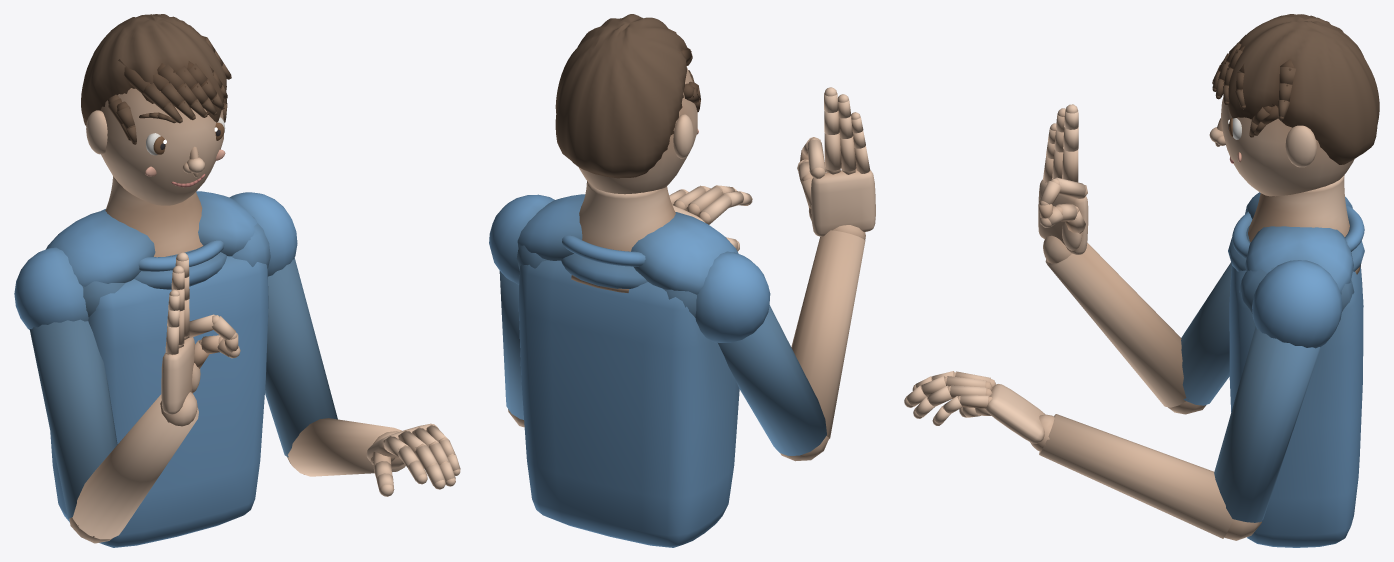
3 views of the same model, side by side, from view 1: azimuth 30°, elevation 25°; view 2: azimuth 150°, elevation 25°; view 3: azimuth 270°, elevation 25° (orthographic).
Visible parts, largest first — view 1: LSC_Body; view 2: LSC_Body; view 3: LSC_Body.
Boxes of the visible parts, x1=… form: LSC_Body: x1=14, y1=14, x2=460, y2=547; LSC_Body: x1=489, y1=14, x2=875, y2=547; LSC_Body: x1=904, y1=14, x2=1379, y2=547.
Bounding box in the file's own units: 0.4304 × 0.713 × 0.6104.
